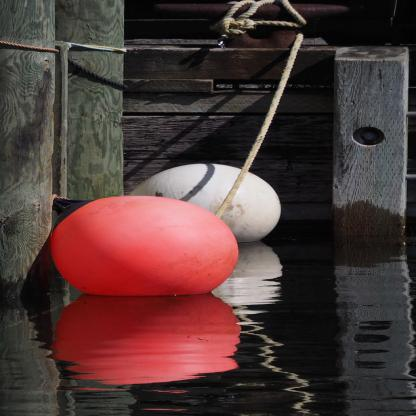Ball: (51, 197, 236, 298), (127, 164, 282, 242)
